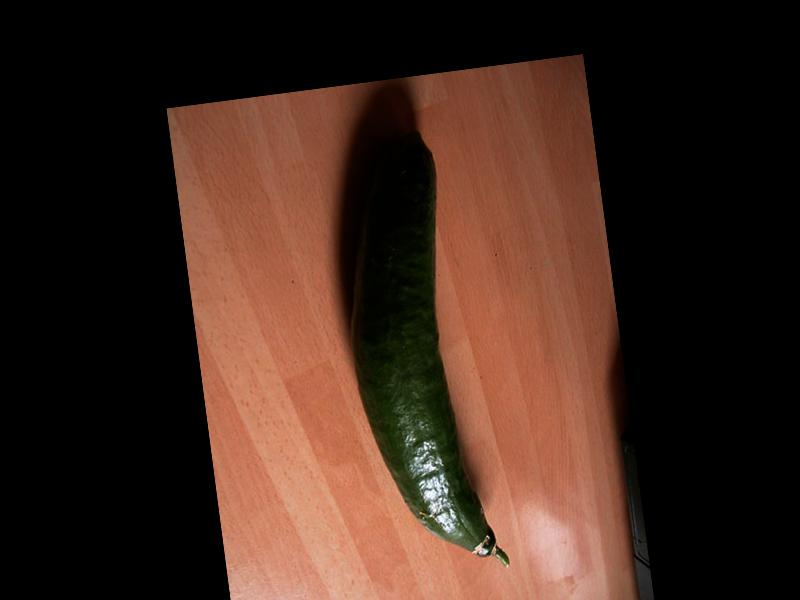Cucumber: (322, 124, 509, 582)
